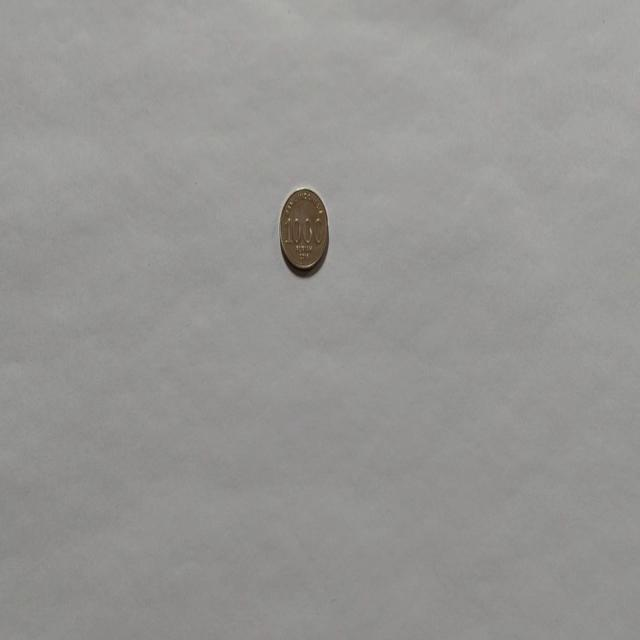seribu rupiah koin: (277, 185, 329, 275)
